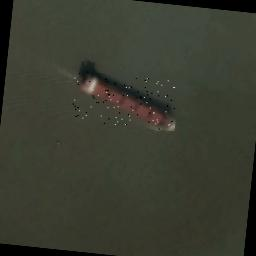boat: (70, 70, 180, 131)
